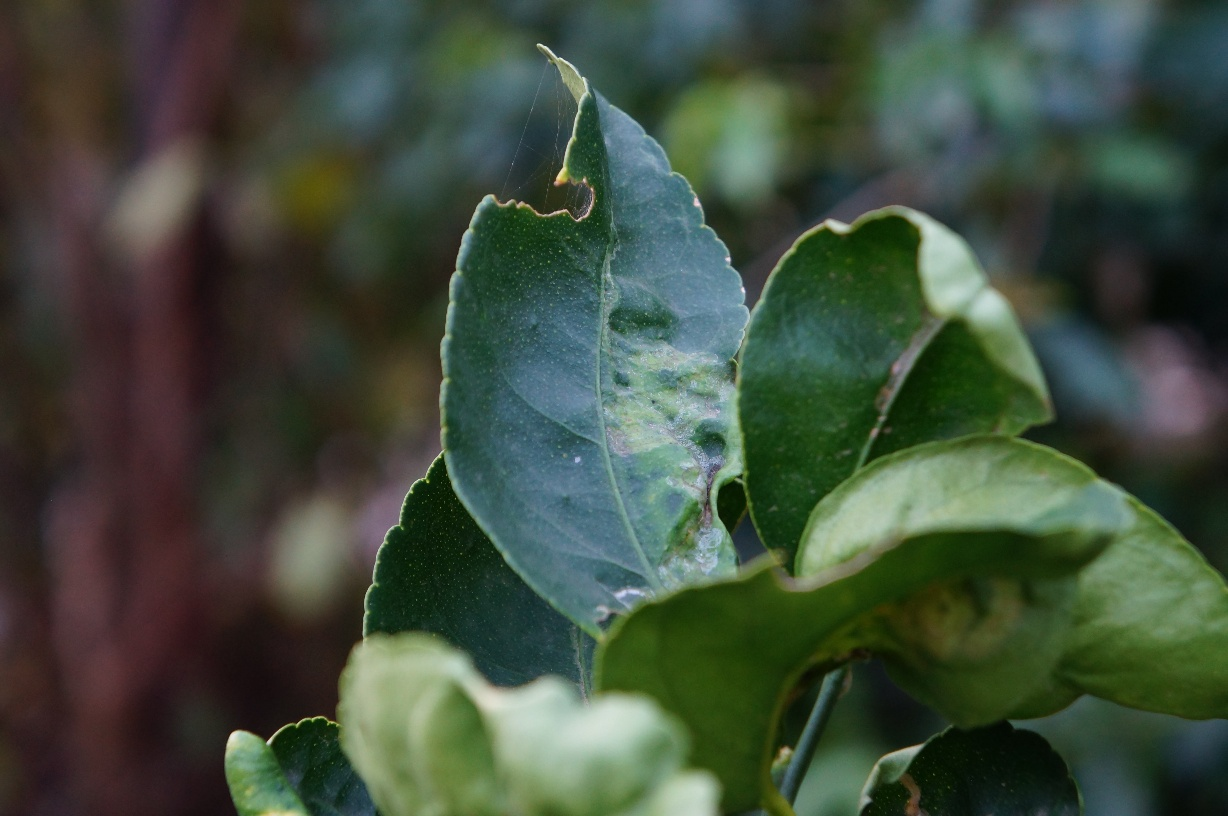damage: (596, 284, 745, 584)
